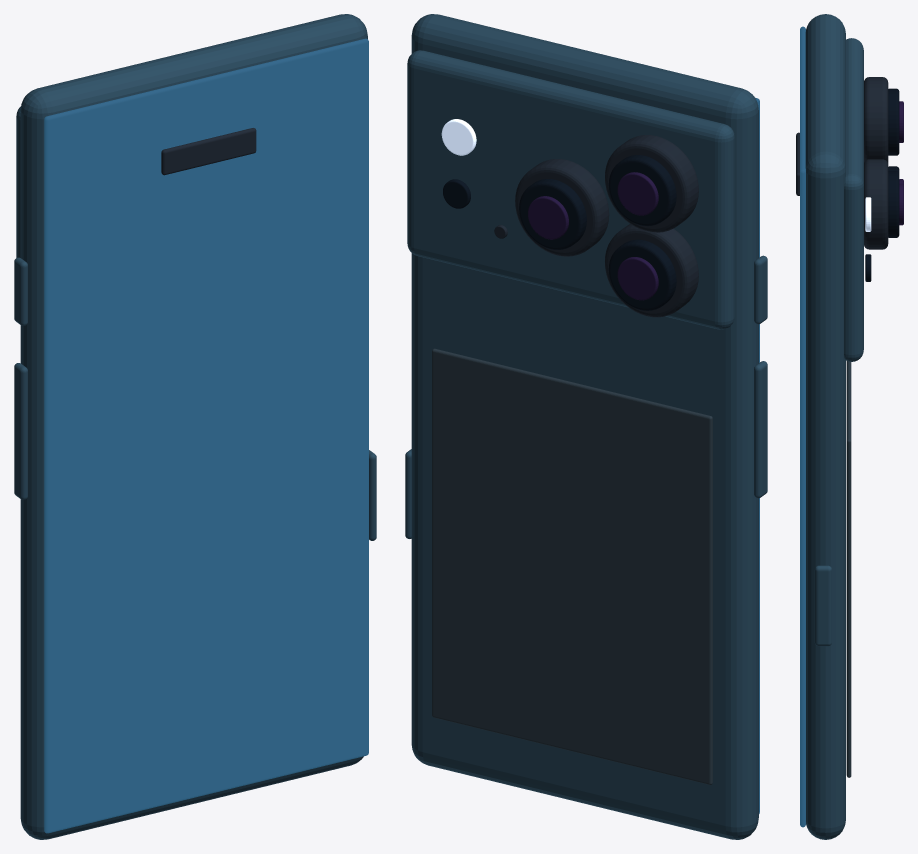
File: iphone-17-pro-max-blockout.glb
The picture shows the model from 3 angles, left to right: view 1: azimuth 30°, elevation 25°; view 2: azimuth 150°, elevation 25°; view 3: azimuth 270°, elevation 25°; orthographic projection. The views are drawn at different scales.
Parts seen in each view (by area): view 1: Front display, Unibody chassis, Dynamic sensor island, Volume controls, Action button, Camera plateau, Camera control; view 2: Rear glass insert, Unibody chassis, Camera plateau, Camera 1 outer ring, Camera 3 outer ring, Camera 2 outer ring, Camera 1 optical glass, Camera 2 optical glass, Camera 3 optical glass, Volume controls, Camera 1 sensor, Camera 2 sensor (+3 smaller); view 3: Unibody chassis, Camera plateau, Front display, Rear glass insert, Camera 3 outer ring, Camera 1 outer ring, Camera control, Camera 1 optical glass, Camera 3 optical glass, Dynamic sensor island, Flash.
Part boxes in pixels (x1,y1,x2,y2): Front display: (44, 38, 368, 833); Unibody chassis: (20, 14, 367, 839); Dynamic sensor island: (161, 128, 256, 175); Volume controls: (14, 363, 27, 499); Action button: (14, 257, 27, 325); Camera plateau: (16, 106, 20, 257); Camera control: (369, 450, 376, 540); Rear glass insert: (432, 348, 712, 784); Unibody chassis: (411, 14, 758, 839); Camera plateau: (407, 50, 734, 329); Camera 1 outer ring: (605, 135, 698, 232); Camera 3 outer ring: (515, 159, 609, 256); Camera 2 outer ring: (605, 224, 698, 317); Camera 1 optical glass: (608, 155, 676, 226); Camera 2 optical glass: (608, 239, 676, 310); Camera 3 optical glass: (519, 179, 586, 249); Volume controls: (754, 361, 767, 498); Camera 1 sensor: (617, 172, 658, 215); Camera 2 sensor: (617, 257, 658, 300); Unibody chassis: (805, 14, 845, 839); Camera plateau: (844, 38, 863, 361); Front display: (800, 26, 805, 827); Rear glass insert: (846, 361, 851, 777); Camera 3 outer ring: (864, 159, 888, 249); Camera 1 outer ring: (864, 77, 888, 162); Camera control: (814, 565, 831, 646); Camera 1 optical glass: (888, 88, 899, 155); Camera 3 optical glass: (888, 171, 899, 237); Dynamic sensor island: (796, 132, 799, 195); Flash: (865, 197, 871, 231).
Bounding box in the file's own units: 1.63 × 3.27 × 0.4645.
